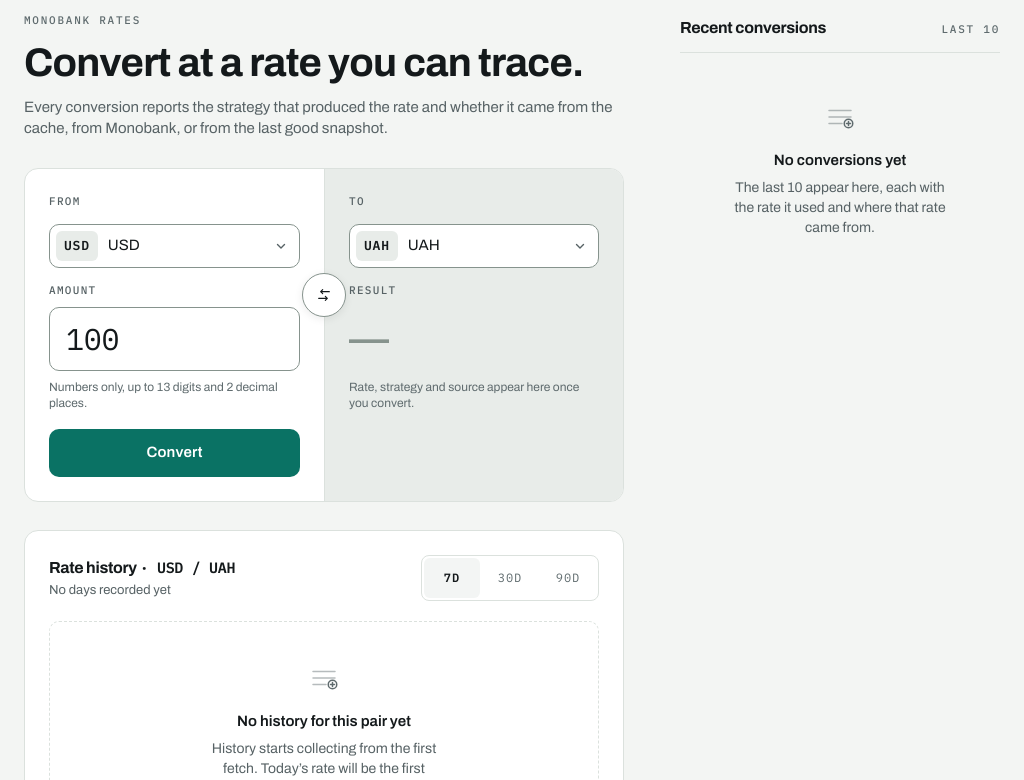
Test: converting while the API is unreachable › does not estimate a pair the snapshot cannot price
Step 1. Click the button "Convert" → point(174, 453), box [49,429,300,477]
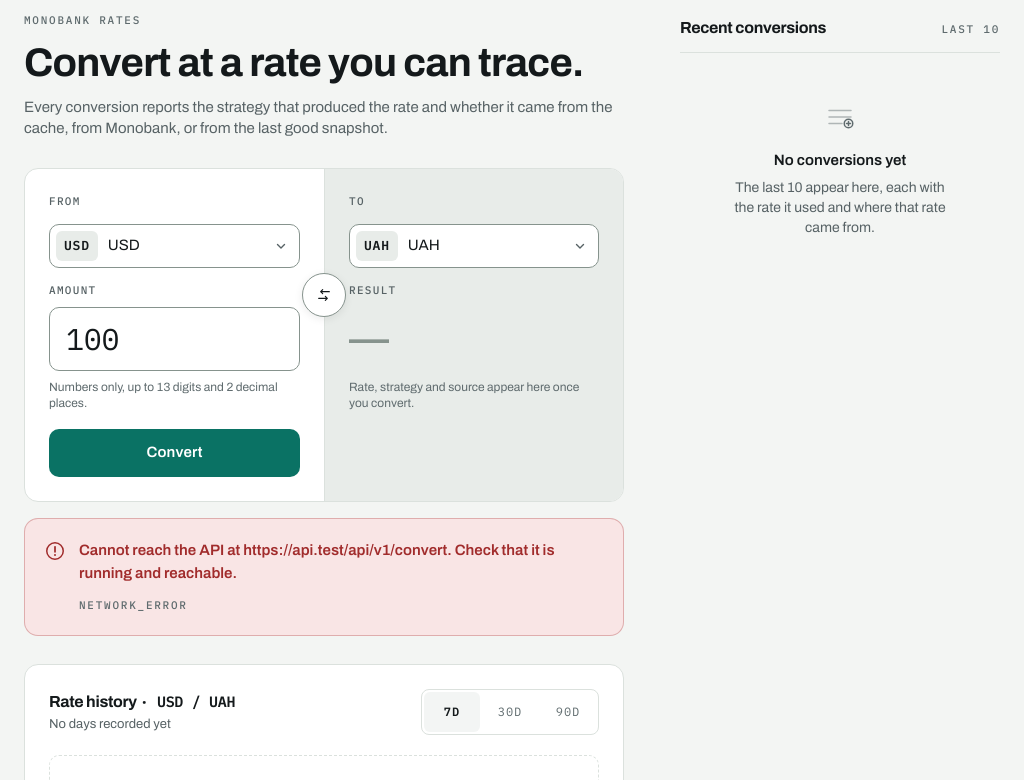
Expected: the text "Rate, strategy and source appear here once you convert." is shown, [349,379,599,411]
Expected: the text "Cannot reach the API" is shown, [79,542,554,581]
